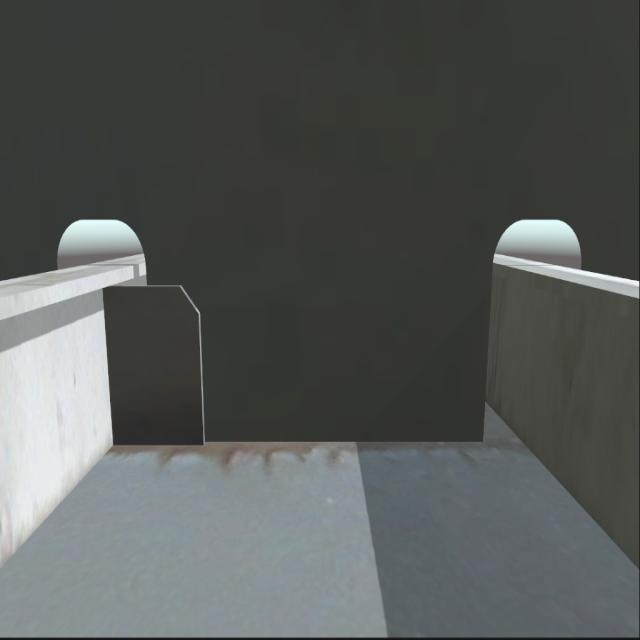fillet_yong_jeop_jang: (110, 429, 484, 450)
longi_yong_jeop_jang: (95, 286, 114, 450)
plate_CP03: (110, 281, 202, 449)
